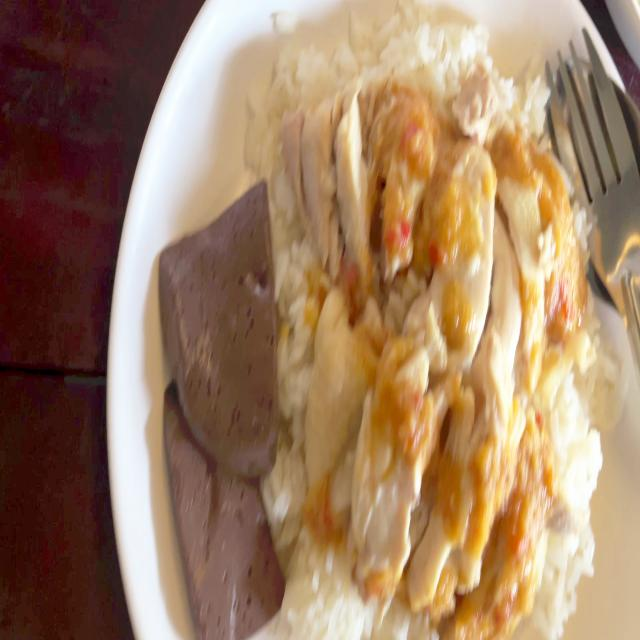boiled_chicken: (291, 87, 573, 588)
boiled_chicken_blood_jelly: (162, 177, 277, 463), (160, 387, 276, 635)
chicken_rice: (158, 9, 608, 640)
